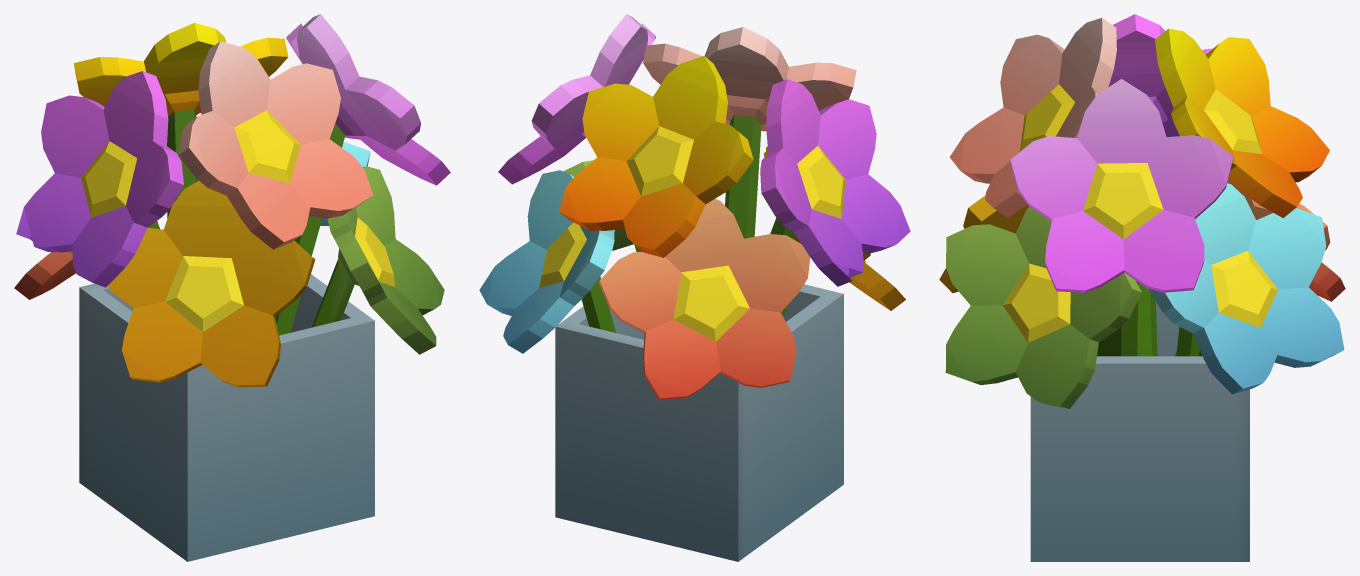
File: box flowers.fbx
3 views of the same model, side by side, from view 1: azimuth 30°, elevation 25°; view 2: azimuth 150°, elevation 25°; view 3: azimuth 270°, elevation 25° (orthographic). The views are drawn at different scales.
Parts seen in each view (by area): view 1: box_flowers; view 2: box_flowers; view 3: box_flowers.
Part boxes in pixels (x1=…): box_flowers: x1=14, y1=14, x2=450, y2=561; box_flowers: x1=479, y1=14, x2=910, y2=561; box_flowers: x1=939, y1=14, x2=1345, y2=561.
Bounding box in the file's own units: 64.96 × 81.05 × 61.53.
Materials: 1 (1 with a texture image).
